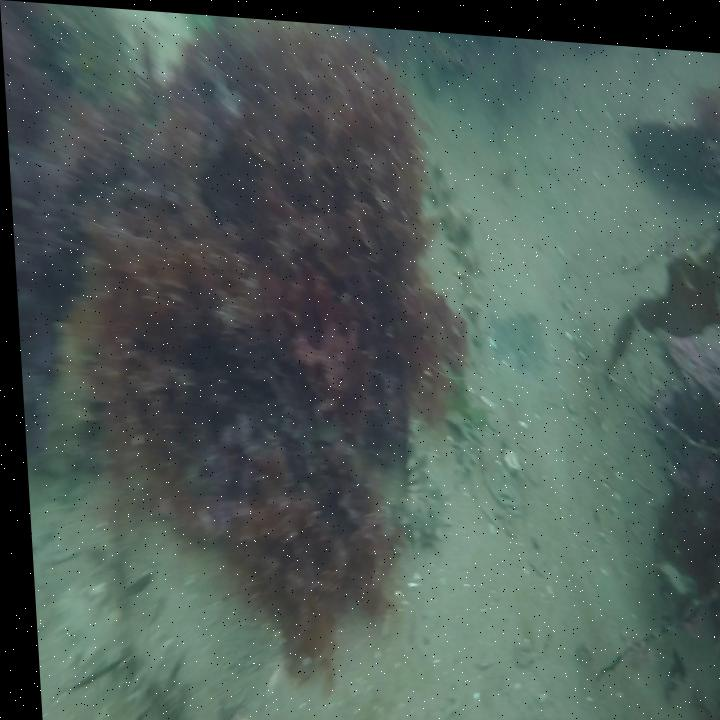holothurian: (367, 402, 450, 552), (32, 313, 101, 490), (419, 150, 489, 321)
